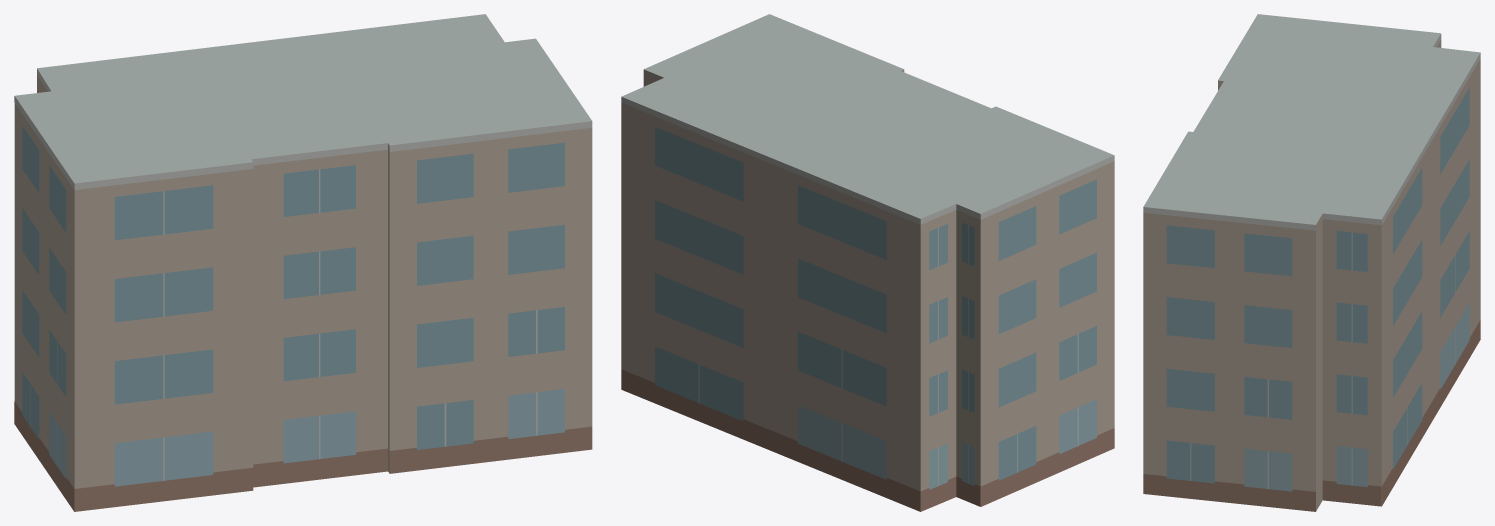
Rendered from survey-upis-32831580.glb.
The picture shows the model from 3 angles, left to right: view 1: azimuth 30°, elevation 25°; view 2: azimuth 150°, elevation 25°; view 3: azimuth 270°, elevation 25°; orthographic projection. The views are drawn at different scales.
Visible parts, largest first — view 1: survey-upis-32831580.tmp; view 2: survey-upis-32831580.tmp; view 3: survey-upis-32831580.tmp.
Part boxes in pixels (x1,y1,x2,y2): survey-upis-32831580.tmp: (14,14,592,511); survey-upis-32831580.tmp: (621,14,1114,511); survey-upis-32831580.tmp: (1143,14,1480,511).
Bounding box in the file's own units: 19.25 × 12.2 × 13.01.
